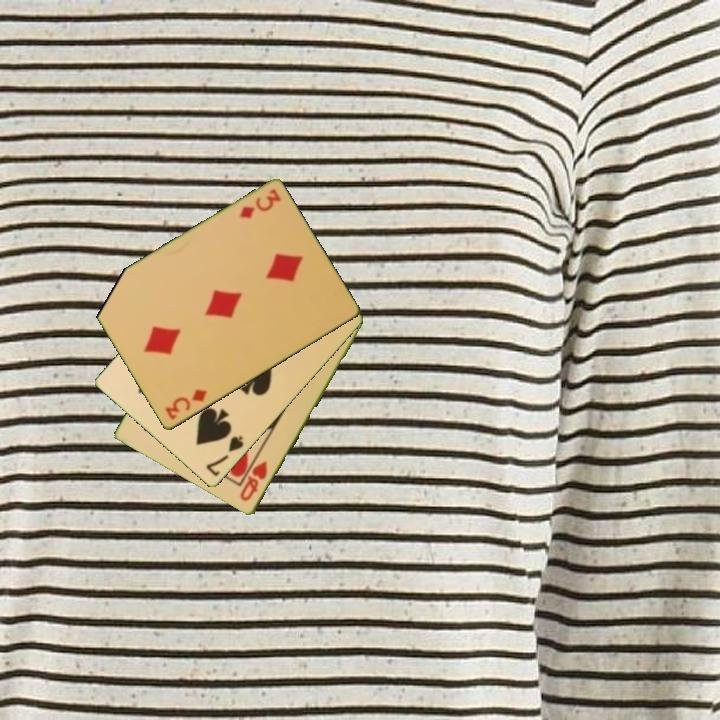3d: (161, 386, 211, 423), (236, 186, 284, 222)
7s: (202, 432, 247, 480)
Qh: (236, 457, 271, 505)
